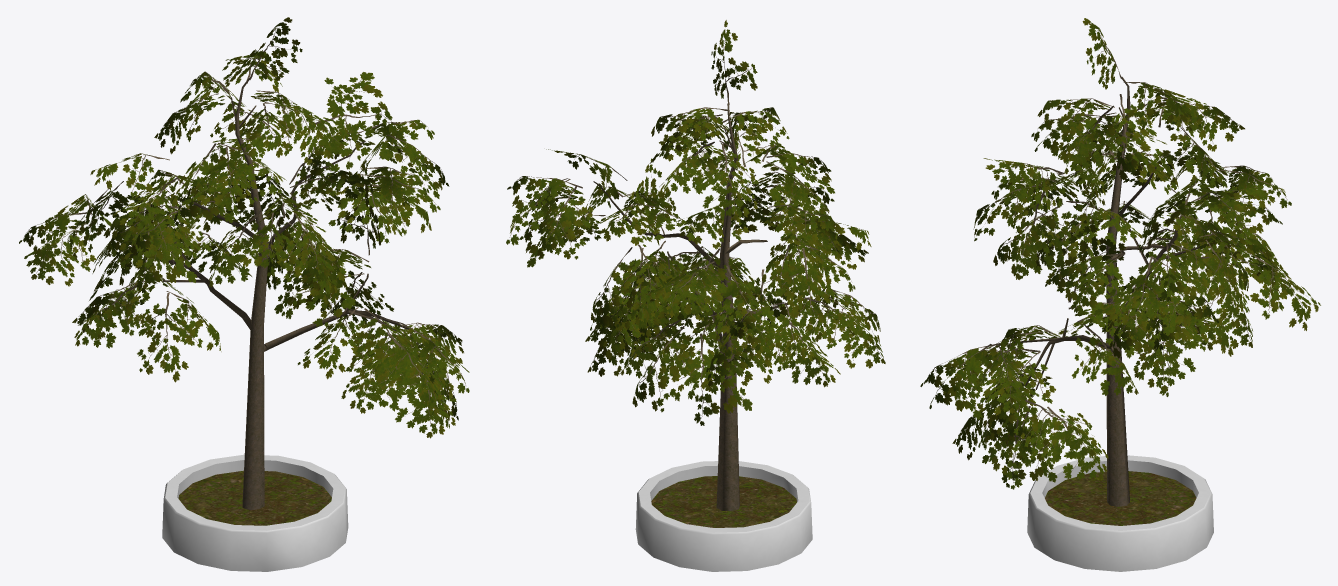
Rendered from nc_tree_11.fbx.
The picture shows the model from 3 angles, left to right: view 1: azimuth 30°, elevation 25°; view 2: azimuth 150°, elevation 25°; view 3: azimuth 270°, elevation 25°; orthographic projection. The views are drawn at different scales.
Visible parts, largest first — view 1: nc_tree_11_LOD0; view 2: nc_tree_11_LOD0; view 3: nc_tree_11_LOD0.
Part boxes in pixels (left/top/right/bottom): nc_tree_11_LOD0: left=19, top=17, right=469, bottom=571; nc_tree_11_LOD0: left=506, top=20, right=885, bottom=571; nc_tree_11_LOD0: left=920, top=18, right=1320, bottom=571.
Size of what is drawn, in the model's own units: 2.46 by 3.11 by 2.19.
